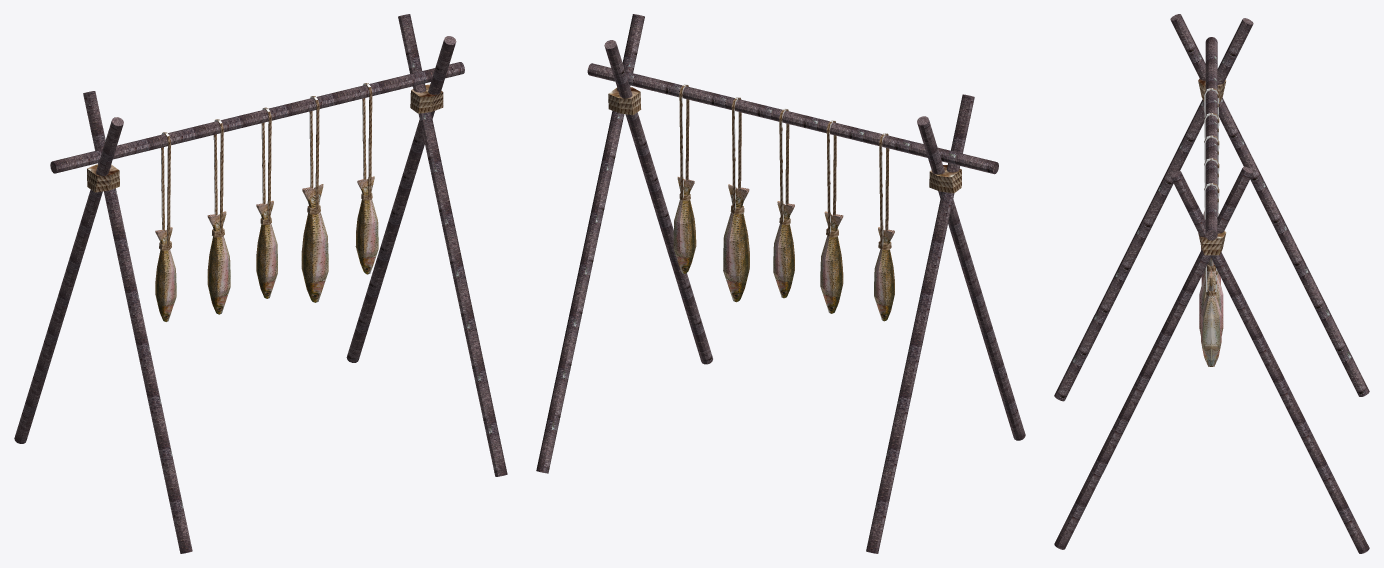
Rendered from Vl_FishRack.glb.
The picture shows the model from 3 angles, left to right: view 1: azimuth 30°, elevation 25°; view 2: azimuth 150°, elevation 25°; view 3: azimuth 270°, elevation 25°; orthographic projection. The views are drawn at different scales.
Parts seen in each view (by area): view 1: HangDriedFishes; view 2: HangDriedFishes; view 3: HangDriedFishes.
Part boxes in pixels (x1,y1,x2,y2): HangDriedFishes: (14,14,507,553); HangDriedFishes: (536,14,1025,553); HangDriedFishes: (1054,14,1369,553).
Size of the model in its own units: 2.15 by 1.99 by 1.49.
Materials: 3 (3 with a texture image).
